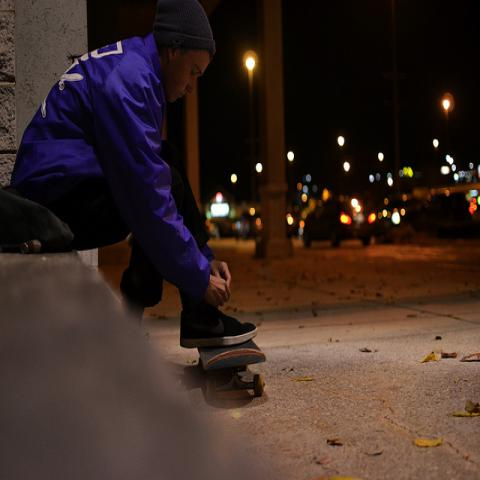car: (302, 198, 372, 247)
